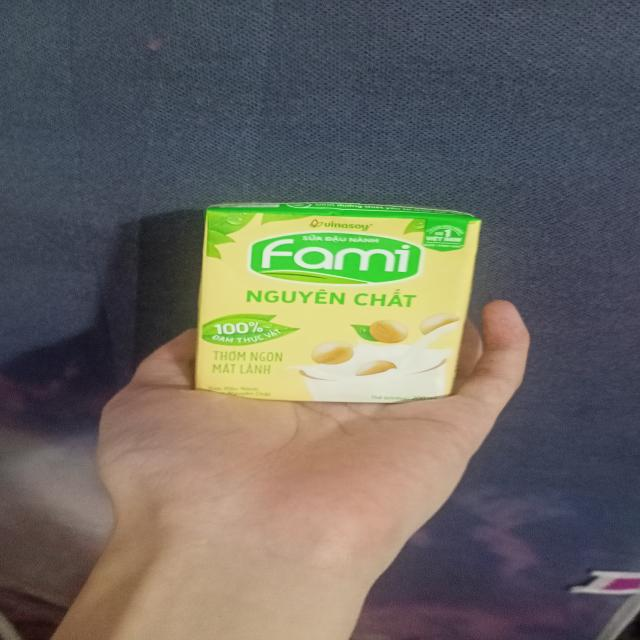Fami: (195, 203, 479, 403)
